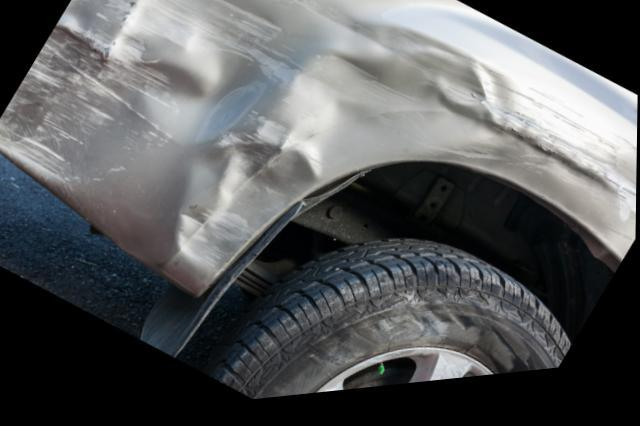dent: (589, 163, 637, 273)
scratch: (474, 98, 635, 214)
